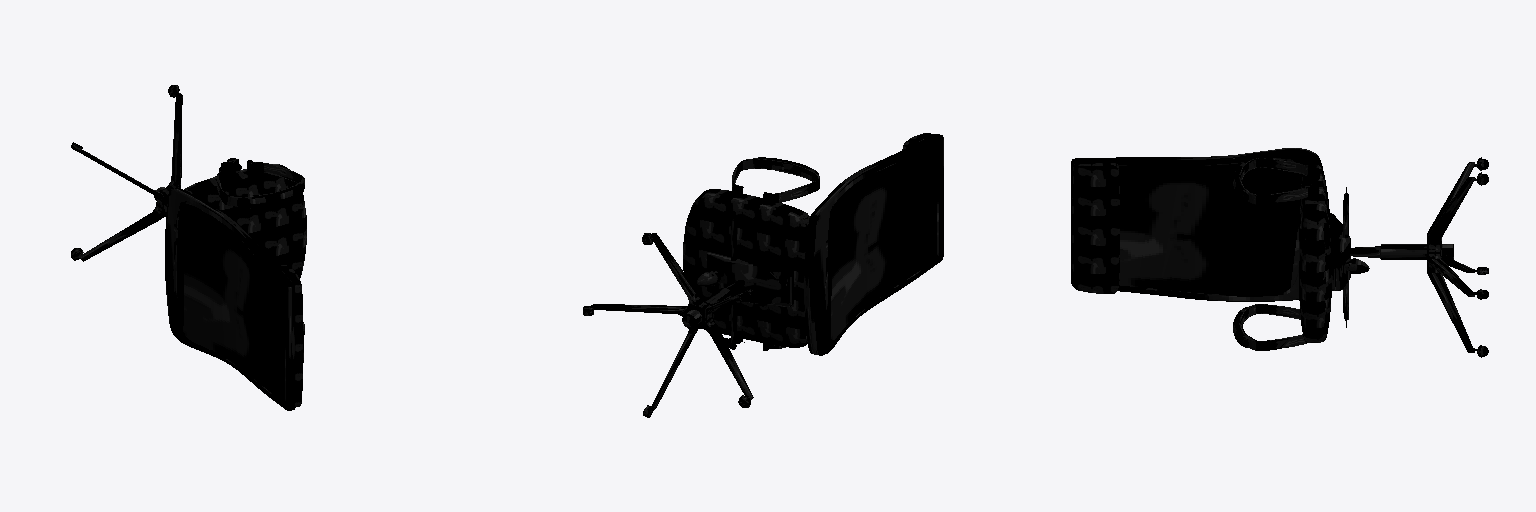
3 views of the same model, side by side, from view 1: azimuth 30°, elevation 25°; view 2: azimuth 150°, elevation 25°; view 3: azimuth 270°, elevation 25° (orthographic).
Size of the model in its own units: 0.6038 by 0.6347 by 1.3.
1 materials, 1 textured.